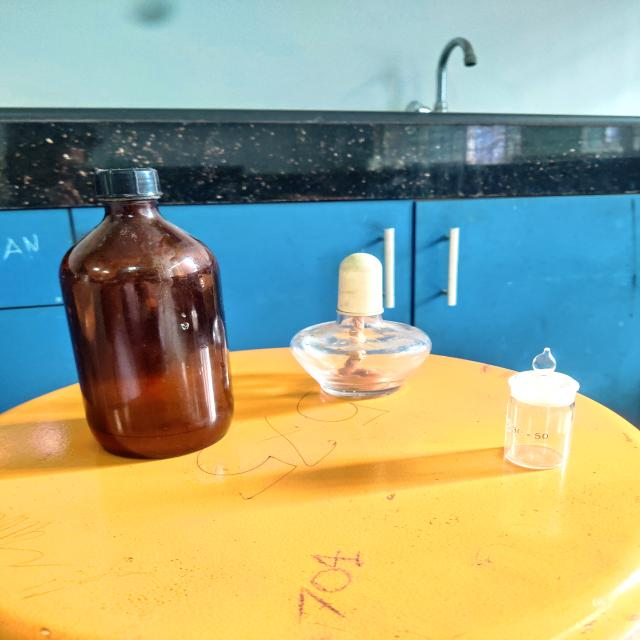Nessler_Reagent_Bottle: (42, 147, 250, 474)
Spirit_Lamp: (273, 233, 457, 412)
Weighing_Bottle: (493, 326, 595, 488)
